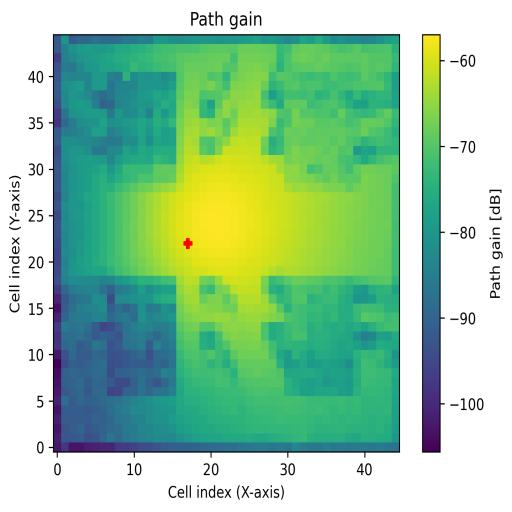Concrete: (284, 73, 354, 184)
Glass: (108, 70, 177, 184)
Metal: (284, 276, 354, 398)
Wood: (108, 276, 176, 396)
